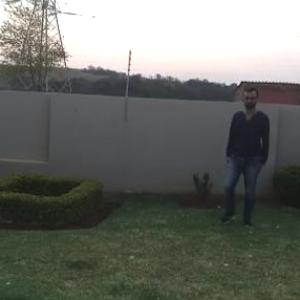follow: (224, 85, 270, 230)
